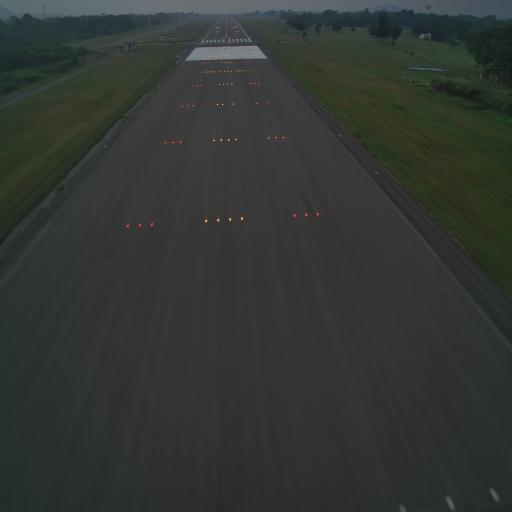on: (124, 220, 132, 232), (148, 220, 155, 232), (215, 214, 222, 226), (303, 208, 310, 220), (227, 213, 234, 224), (136, 220, 142, 232), (293, 209, 298, 223), (202, 214, 208, 225), (238, 214, 244, 225), (316, 208, 320, 220), (211, 136, 216, 145), (164, 139, 168, 147), (178, 138, 182, 146), (267, 134, 271, 142), (274, 134, 278, 142), (171, 139, 175, 145), (220, 137, 223, 145), (226, 136, 230, 142), (234, 137, 238, 143), (282, 133, 285, 141)
